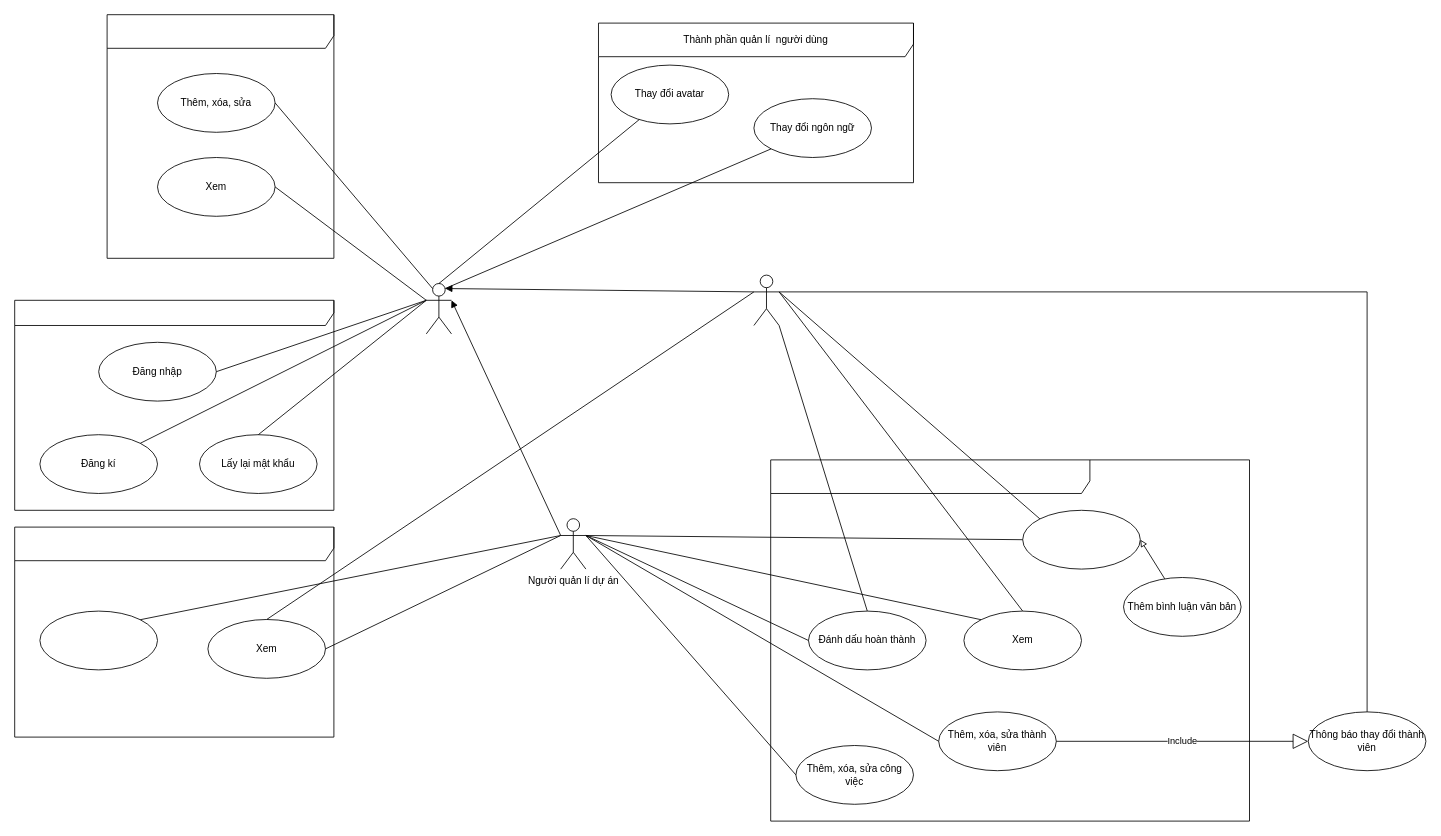
The diagram is 1441 pixels wide and 836 high, and some of its shapes have lost their labels. The shapes that lost their labels are listed below. From the top down, each one's box as (x1, y1, x2, y2) in pixels, then its label:
(106, 14, 334, 258): Thành phần quản lí lời nhắc
(425, 283, 452, 334): Người dùng
(753, 274, 779, 326): Thành viên dự án
(14, 299, 334, 510): Thành phần xác thực
(1022, 509, 1140, 569): Bình luận
(39, 610, 158, 670): Thêm , xóa , sửa
(14, 526, 334, 737): Thành phần quản lí dự án
(770, 459, 1250, 821): Thành phần quản lí công việc
